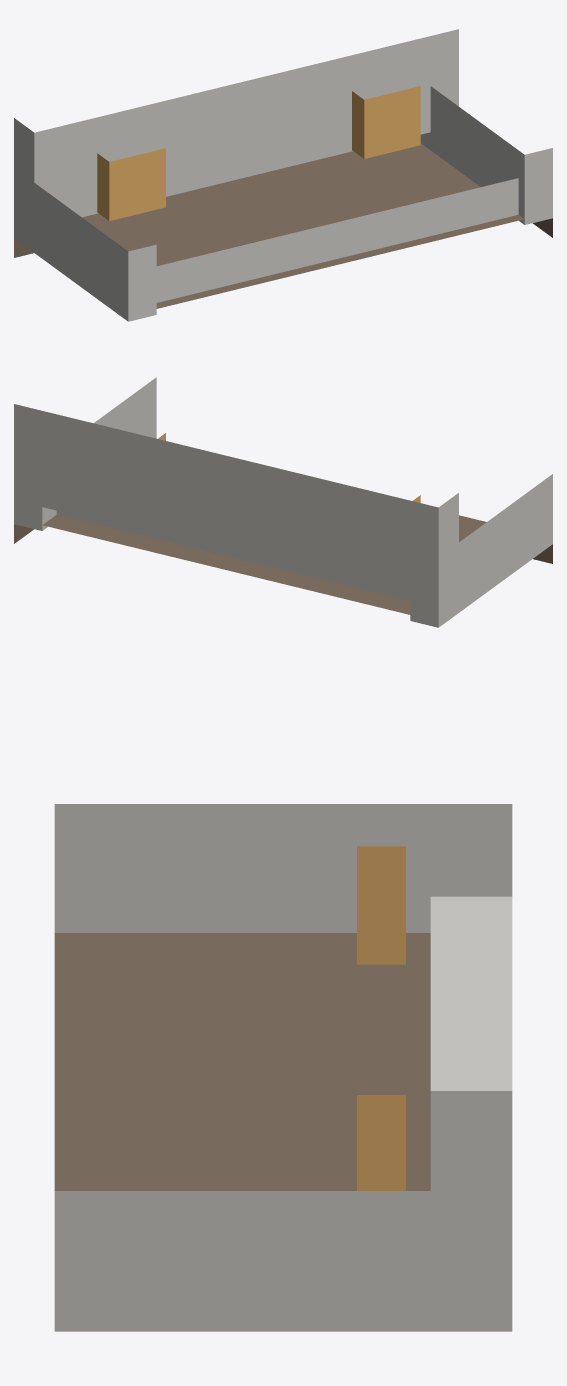
File: sofa.glb
3 renders of one model, top to bottom at view 1: azimuth 30°, elevation 25°; view 2: azimuth 150°, elevation 25°; view 3: azimuth 270°, elevation 25°, orthographic. The views are drawn at different scales.
Parts seen in each view (by area): view 1: RootNode; view 2: RootNode; view 3: RootNode.
Part boxes in pixels (left/top/right/bottom): RootNode: left=14, top=29, right=552, bottom=321; RootNode: left=14, top=377, right=552, bottom=627; RootNode: left=54, top=804, right=512, bottom=1331.
Size of the model in its own units: 6 by 1.89 by 2.8.
